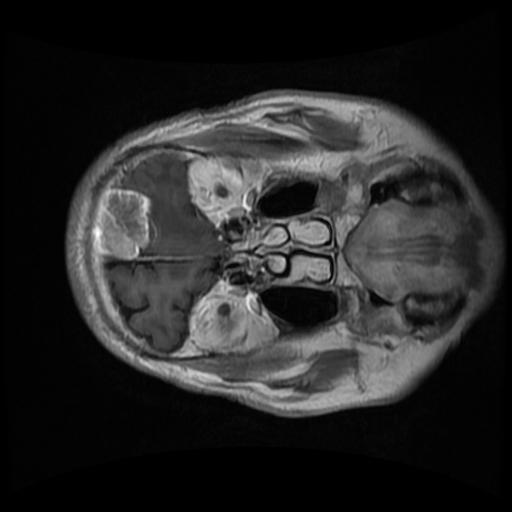meningioma: (100, 188, 151, 262)
